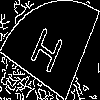H: (24, 25, 66, 85)
